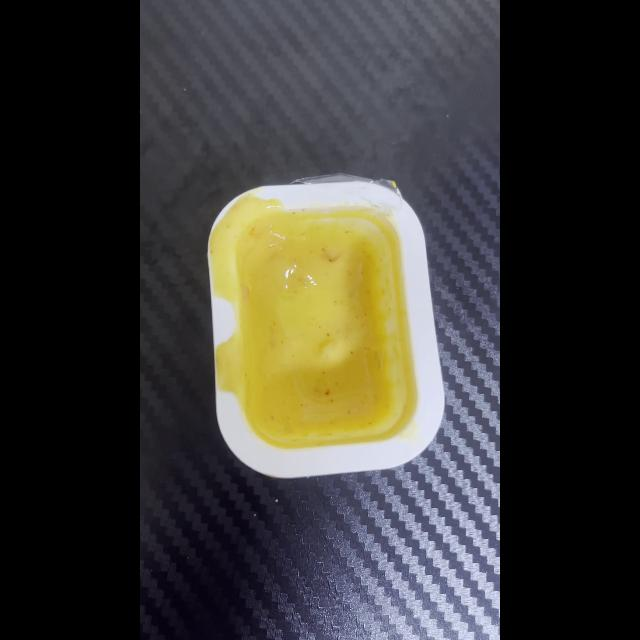dirty: (208, 194, 446, 468)
